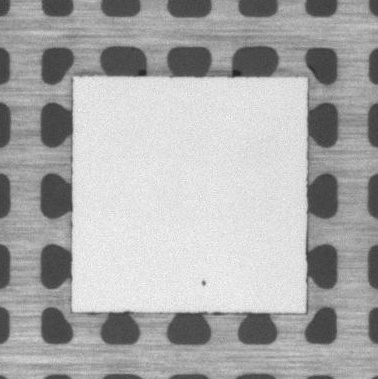DIE_INK: (198, 277, 210, 289)
